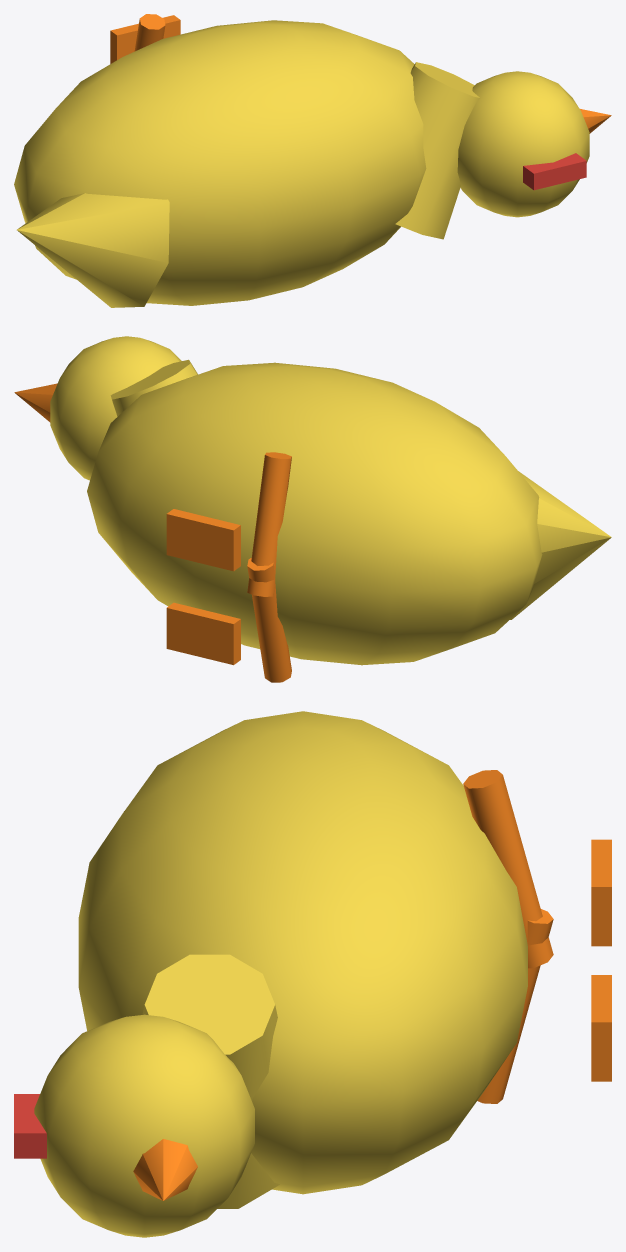
Rendered from rubber_chicken.glb.
3 views of the same model, one above another, from view 1: azimuth 30°, elevation 25°; view 2: azimuth 150°, elevation 25°; view 3: azimuth 270°, elevation 25° (orthographic). The views are drawn at different scales.
Visible parts, largest first — view 1: Body, Head, Tail, RubberChicken, Comb; view 2: Body, RubberChicken, Head, Tail, Beak; view 3: Body, Head, RubberChicken, Beak, Comb.
Part boxes in pixels (bbox=[...]): Body: bbox=[14, 20, 426, 305]; Head: bbox=[457, 71, 589, 217]; Tail: bbox=[17, 193, 169, 307]; RubberChicken: bbox=[110, 14, 479, 239]; Comb: bbox=[523, 153, 586, 190]; Body: bbox=[87, 362, 542, 665]; RubberChicken: bbox=[110, 359, 291, 682]; Head: bbox=[50, 336, 181, 480]; Tail: bbox=[510, 471, 611, 619]; Beak: bbox=[14, 383, 57, 422]; Body: bbox=[78, 711, 527, 1194]; Head: bbox=[34, 1014, 254, 1237]; RubberChicken: bbox=[142, 770, 611, 1208]; Beak: bbox=[133, 1139, 197, 1200]; Comb: bbox=[14, 1094, 46, 1158].
Bounding box in the file's own units: 1.1 × 0.442 × 0.641.
